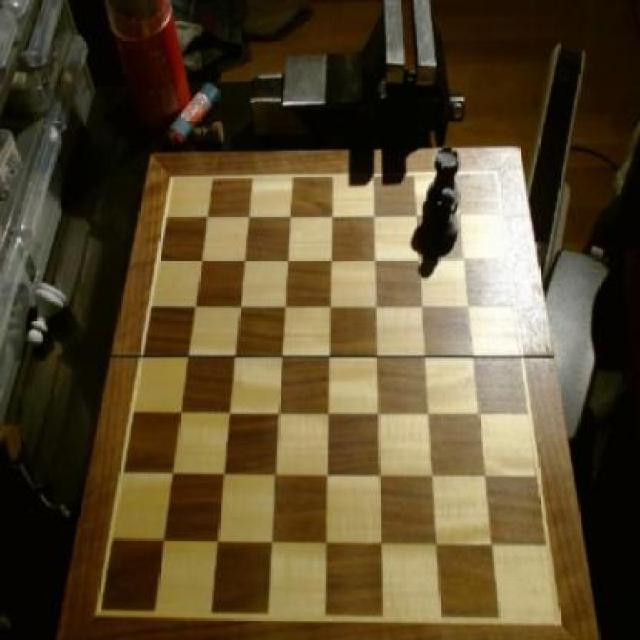black-knight: (429, 188, 460, 252)
black-queen: (426, 150, 462, 222)
